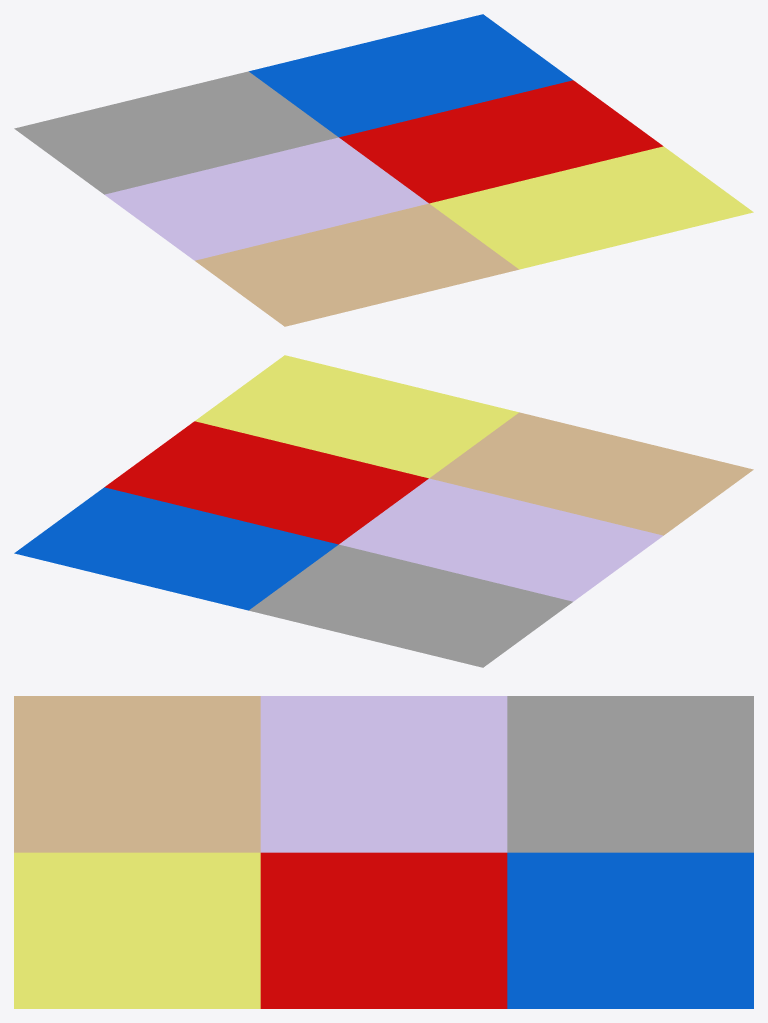
Rendered from colorPalette.fbx.
3 views of the same model, one above another, from view 1: azimuth 30°, elevation 25°; view 2: azimuth 150°, elevation 25°; view 3: azimuth 270°, elevation 25° (orthographic). The views are drawn at different scales.
Visible parts, largest first — view 1: colorPalette; view 2: colorPalette; view 3: colorPalette.
Boxes of the visible parts, <box> form: colorPalette: <box>14,14,753,326</box>; colorPalette: <box>14,355,753,667</box>; colorPalette: <box>14,696,753,1008</box>.
Bounding box in the file's own units: 1 × 0 × 1.
